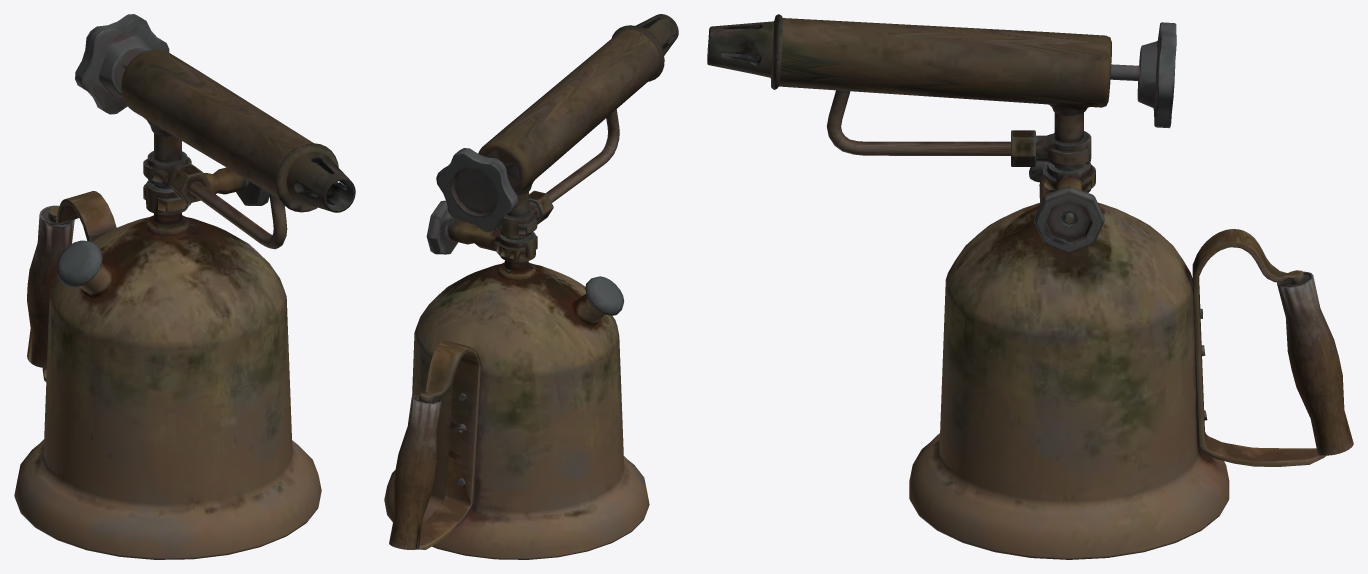
Rendered from brass-blowtorch.glb.
The picture shows the model from 3 angles, left to right: view 1: azimuth 30°, elevation 25°; view 2: azimuth 150°, elevation 25°; view 3: azimuth 270°, elevation 25°; orthographic projection. The views are drawn at different scales.
Visible parts, largest first — view 1: brass_blowtorch; view 2: brass_blowtorch; view 3: brass_blowtorch.
Boxes of the visible parts, x1,y1,x2,y2 form: brass_blowtorch: (14,14,355,559); brass_blowtorch: (384,14,678,559); brass_blowtorch: (707,14,1353,559).
Size of the model in its own units: 0.1294 by 0.2106 by 0.2593.
1 material, 1 textured.
